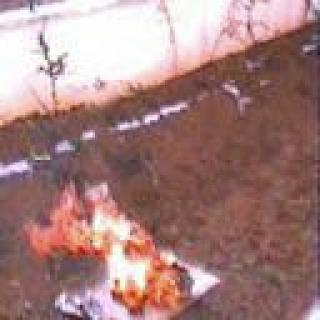fire: (23, 179, 193, 320)
